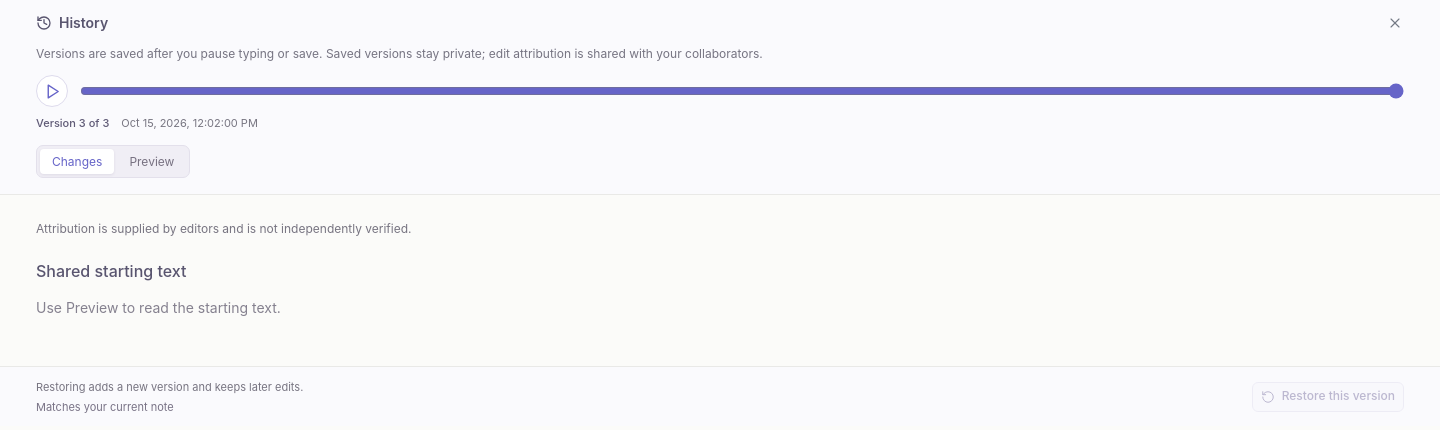
Test: note history › labels the shared baseline and allows switching to a read-only preview
The width and height of the screenshot is (1440, 430).
Expected: the heading "Shared starting text" is shown, left=36, top=261, right=186, bottom=281
Click the button "Preview": (152, 161) left=117, top=149, right=186, bottom=174
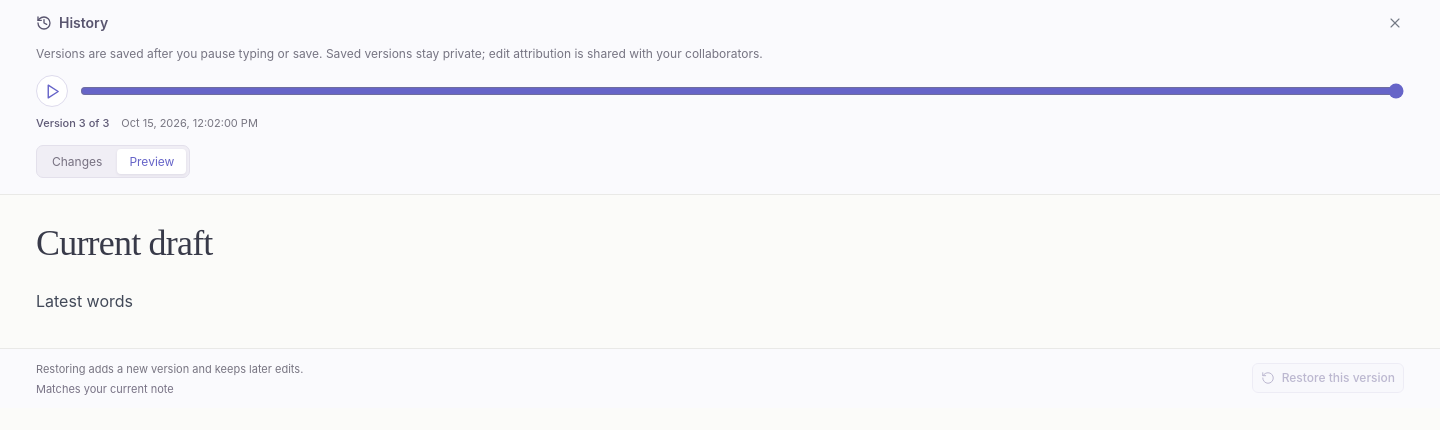
Now the element named "Version preview" is shown, box left=36, top=223, right=212, bottom=311
Now the heading "Current draft" is shown, box left=36, top=223, right=212, bottom=263
Click the button "Changes": (77, 161) left=40, top=149, right=114, bottom=174
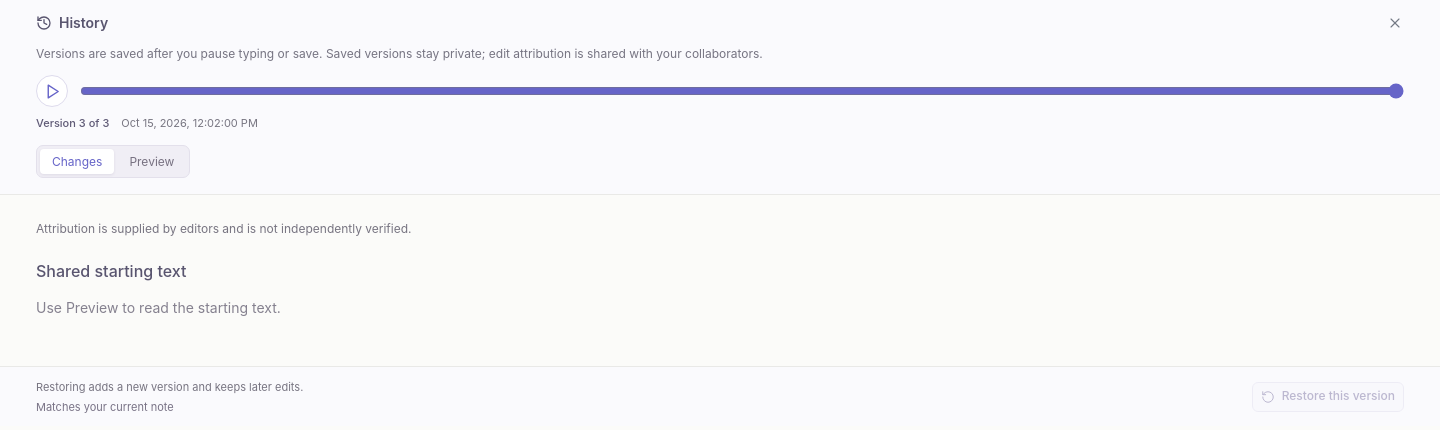
Now the heading "Shared starting text" is shown, box left=36, top=261, right=186, bottom=281
